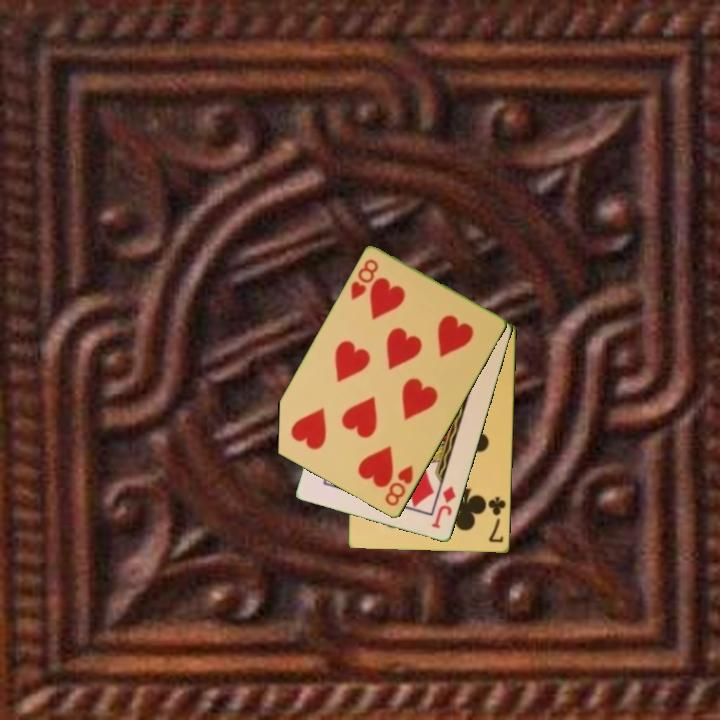7c: (485, 493, 509, 546)
8h: (381, 462, 416, 509), (347, 256, 382, 303)
Jd: (428, 482, 459, 532)
